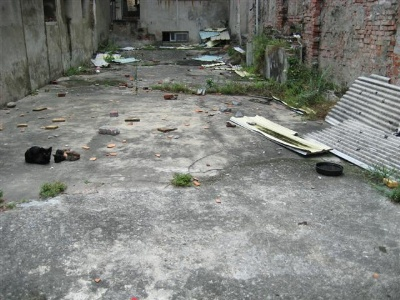plate: (316, 161, 344, 176)
